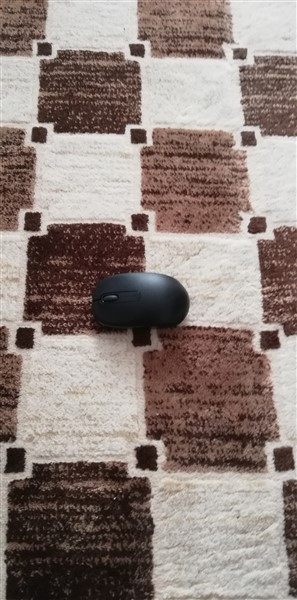mouse: (87, 270, 194, 331)
